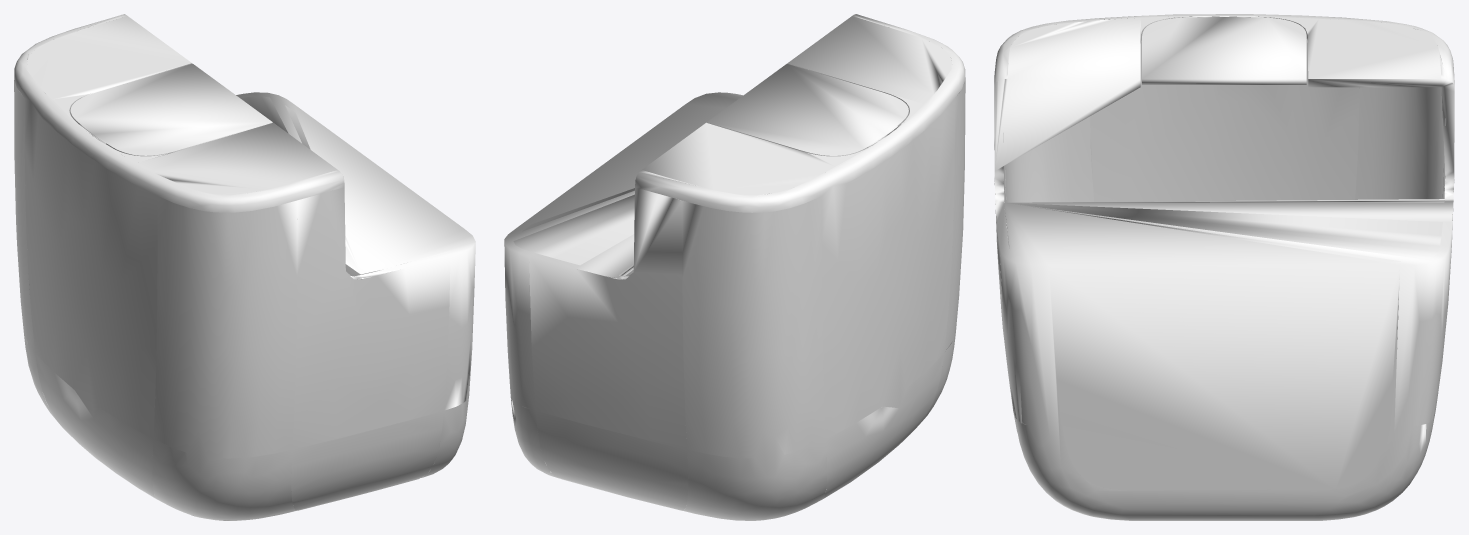
Rendered from wrist_roll.dae.
3 renders of one model, left to right at view 1: azimuth 30°, elevation 25°; view 2: azimuth 150°, elevation 25°; view 3: azimuth 270°, elevation 25°, orthographic. The views are drawn at different scales.
Parts seen in each view (by area): view 1: Wrist_Roll; view 2: Wrist_Roll; view 3: Wrist_Roll.
Part boxes in pixels (x1,y1,x2,y2): Wrist_Roll: [14, 14, 475, 520]; Wrist_Roll: [504, 14, 965, 520]; Wrist_Roll: [994, 14, 1454, 520].
Bounding box in the file's own units: 0.0787 × 0.1018 × 0.0925.
1 material, 1 textured.
